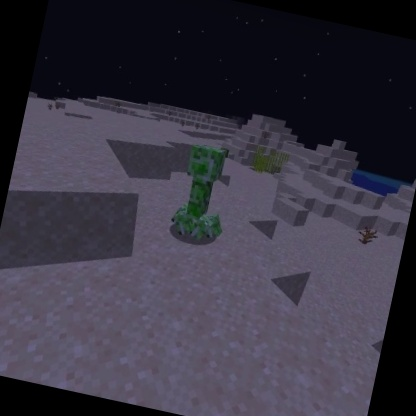creeper: (163, 137, 242, 251)
